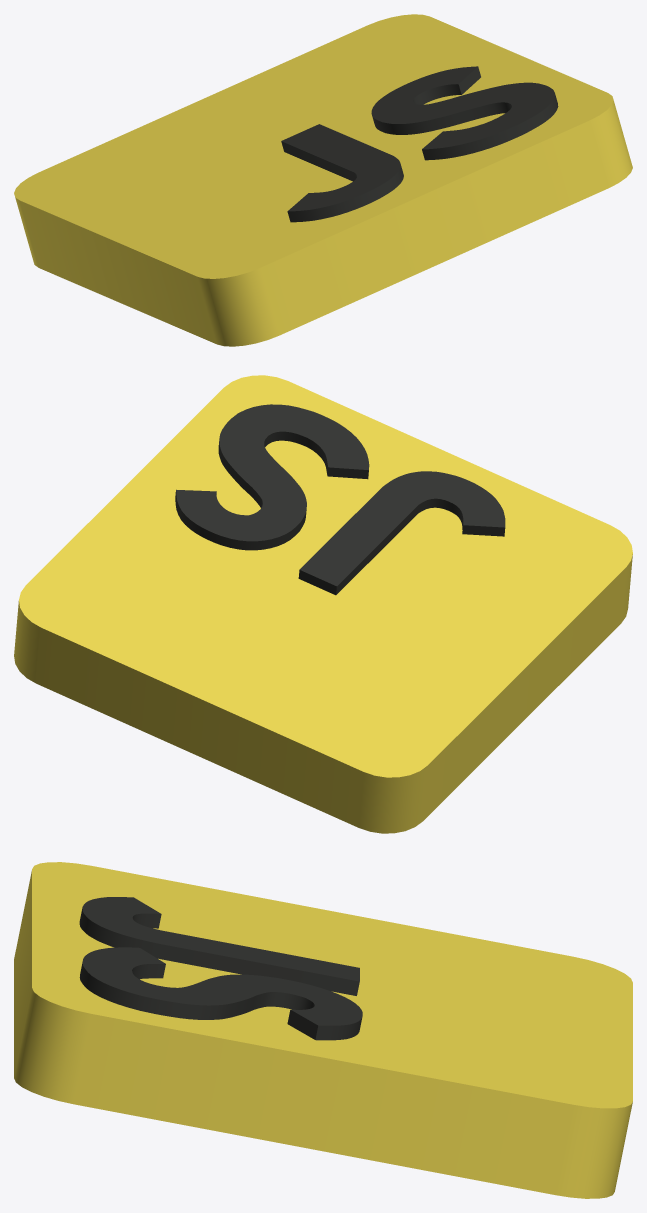
3 renders of one model, top to bottom at view 1: azimuth 30°, elevation 25°; view 2: azimuth 150°, elevation 25°; view 3: azimuth 270°, elevation 25°, orthographic. The views are drawn at different scales.
Parts seen in each view (by area): view 1: js; view 2: js; view 3: js.
Part boxes in pixels (x1=…): js: x1=14, y1=14, x2=632, y2=346; js: x1=14, y1=375, x2=632, y2=833; js: x1=14, y1=862, x2=632, y2=1198.
Size of the model in its own units: 2.08 by 1.01 by 2.02.
